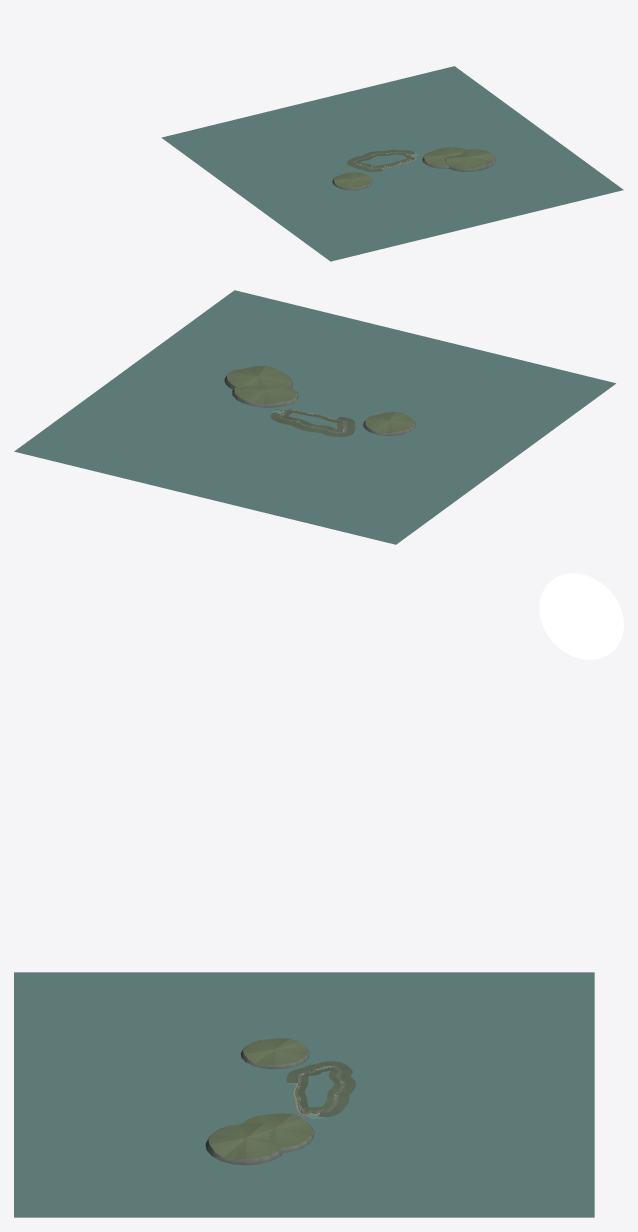
The model's file is cornwall.glb.
The picture shows the model from 3 angles, top to bottom: view 1: azimuth 30°, elevation 25°; view 2: azimuth 150°, elevation 25°; view 3: azimuth 270°, elevation 25°; orthographic projection. The views are drawn at different scales.
Visible parts, largest first — view 1: Land_000, Land_003, Land_006, Land_001; view 2: Land_000, Land_003, Land_006, Land_001, Land_007; view 3: Land_000, Sun, Land_003, Land_006, Land_001.
Part boxes in pixels (x1=…): Land_000: x1=161, y1=66, x2=623, y2=261; Land_003: x1=378, y1=147, x2=495, y2=169; Land_006: x1=381, y1=149, x2=495, y2=171; Land_001: x1=381, y1=149, x2=495, y2=171; Land_000: x1=14, y1=290, x2=615, y2=544; Land_003: x1=224, y1=366, x2=339, y2=421; Land_006: x1=232, y1=366, x2=307, y2=426; Land_001: x1=227, y1=365, x2=308, y2=426; Land_007: x1=295, y1=421, x2=415, y2=436; Land_000: x1=14, y1=972, x2=594, y2=1217; Sun: x1=539, y1=573, x2=623, y2=659; Land_003: x1=206, y1=1081, x2=315, y2=1165; Land_006: x1=205, y1=1088, x2=350, y2=1160; Land_001: x1=209, y1=1088, x2=350, y2=1165.
Size of the model in its own units: 8016 by 2709 by 5464.
